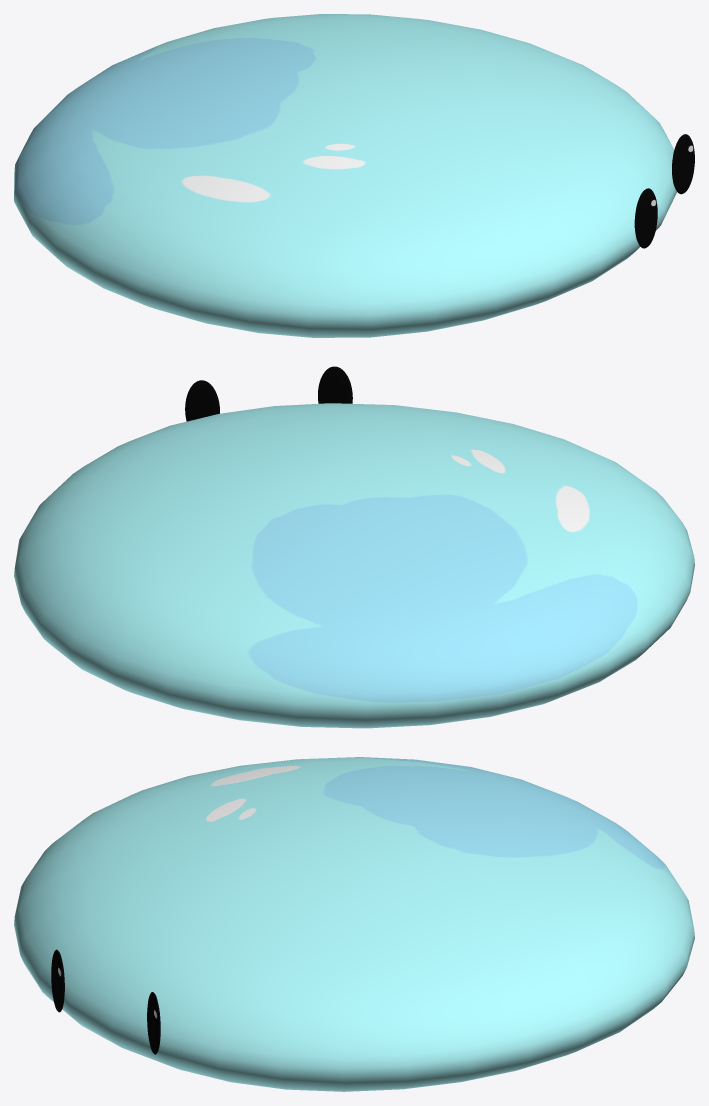
The model's file is jyanp.fbx.
3 views of the same model, one above another, from view 1: azimuth 30°, elevation 25°; view 2: azimuth 150°, elevation 25°; view 3: azimuth 270°, elevation 25° (orthographic). The views are drawn at different scales.
Visible parts, largest first — view 1: pCylinder3; view 2: pCylinder3; view 3: pCylinder3.
Boxes of the visible parts, x1=… form: pCylinder3: x1=14, y1=14, x2=694, y2=337; pCylinder3: x1=14, y1=366, x2=694, y2=728; pCylinder3: x1=14, y1=757, x2=694, y2=1091.
Bounding box in the file's own units: 3.81 × 0.9292 × 3.75.
Materials: 2 (2 with a texture image).
